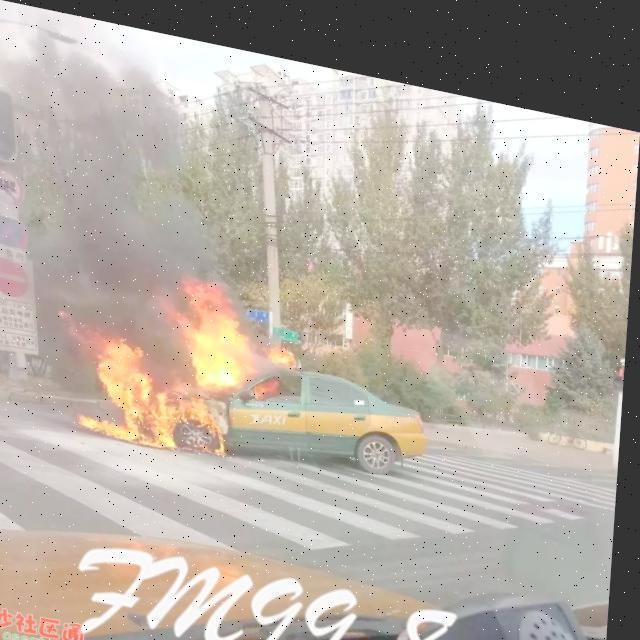Fire: (68, 245, 304, 468)
